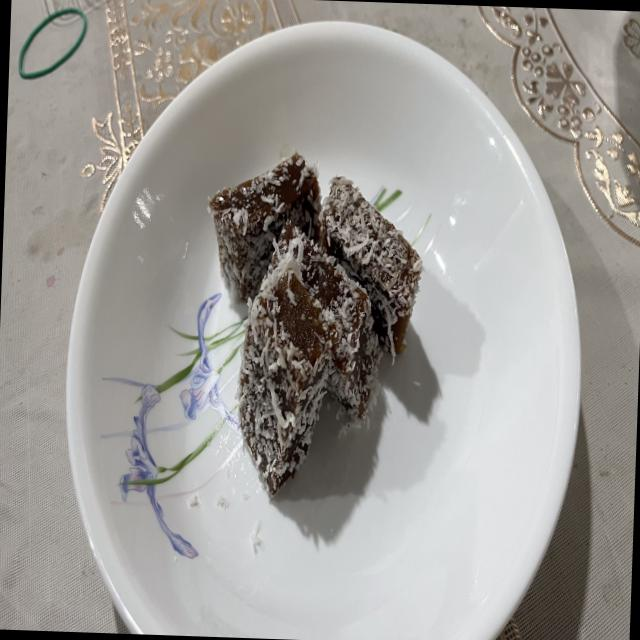kaswi: (237, 256, 332, 494), (268, 221, 380, 419), (322, 176, 422, 356), (208, 152, 321, 300)
